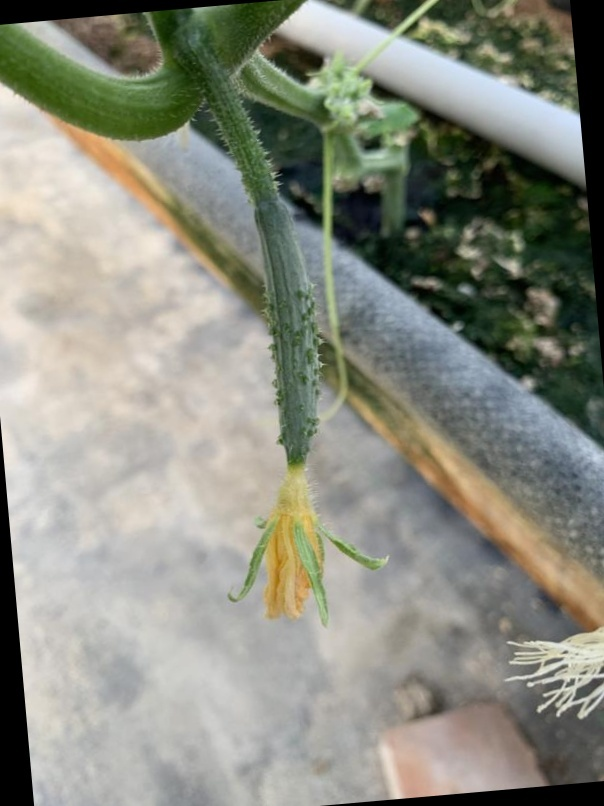bear: (204, 182, 383, 632)
